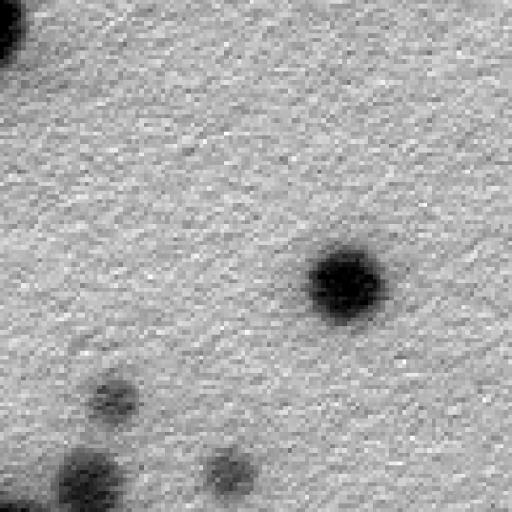Nanoparticles: (299, 240, 395, 330), (56, 442, 134, 512), (84, 372, 145, 430), (207, 446, 261, 498), (0, 0, 32, 72)
